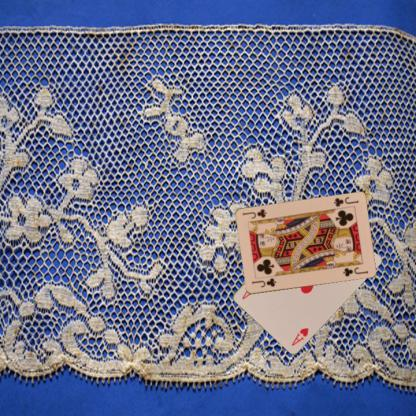Ah: (289, 326, 310, 348)
Jc: (249, 275, 277, 289), (331, 195, 359, 208)
